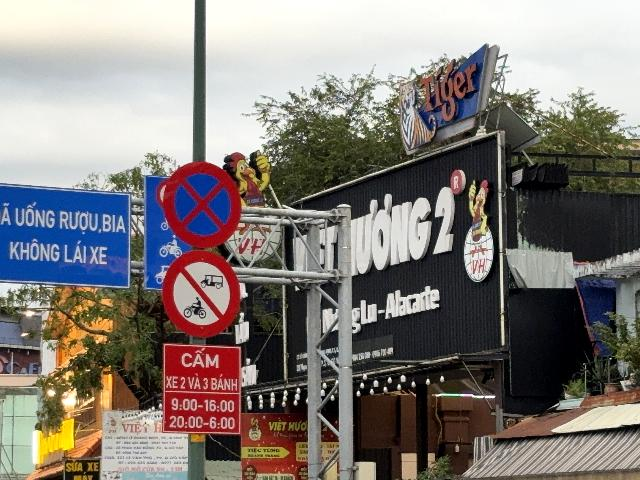cam-dung-va-do-xe: (162, 160, 242, 250)
cam-xe-2-banh-3-banh: (162, 249, 240, 339)
